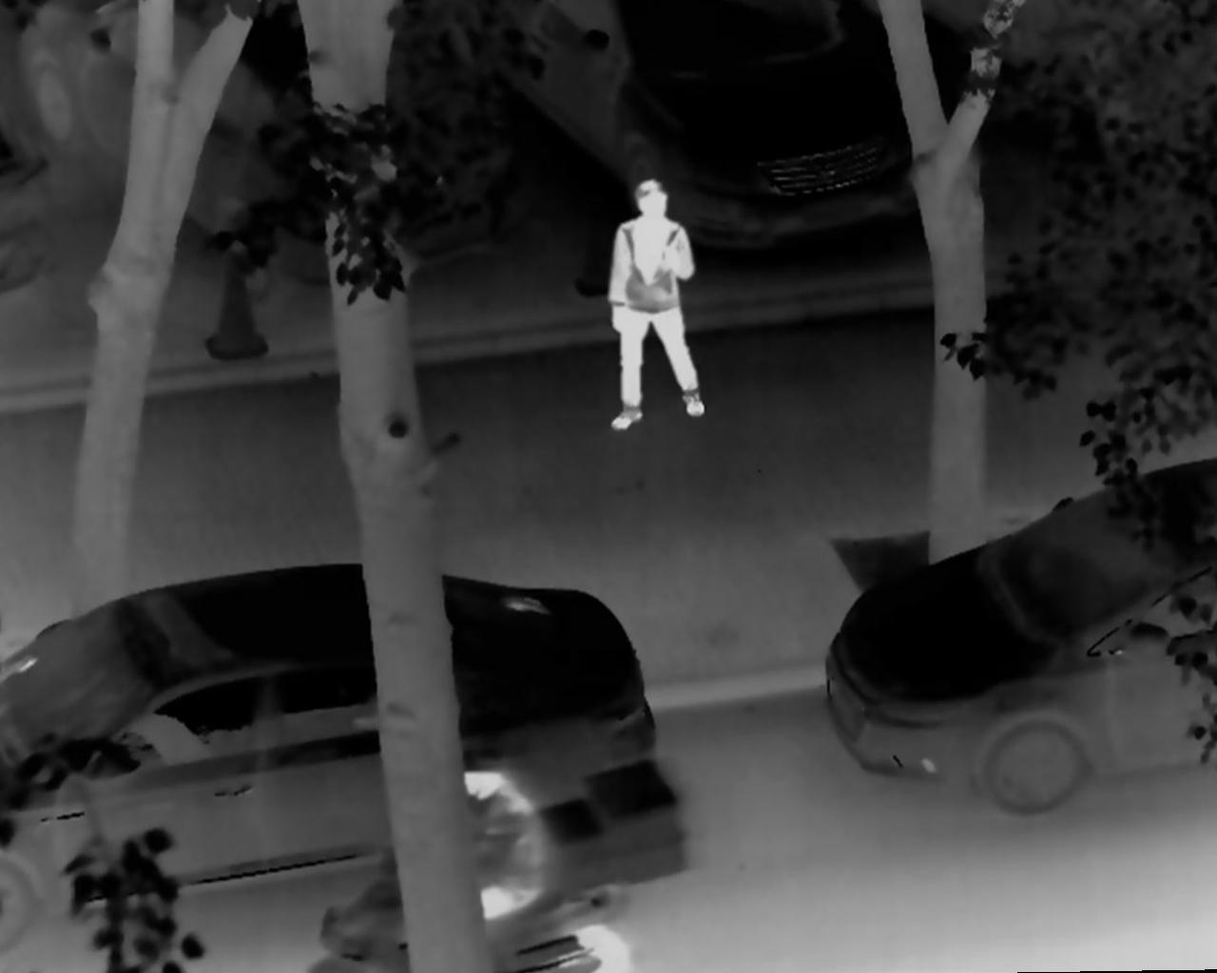person: (596, 181, 717, 433), (442, 751, 557, 934)
